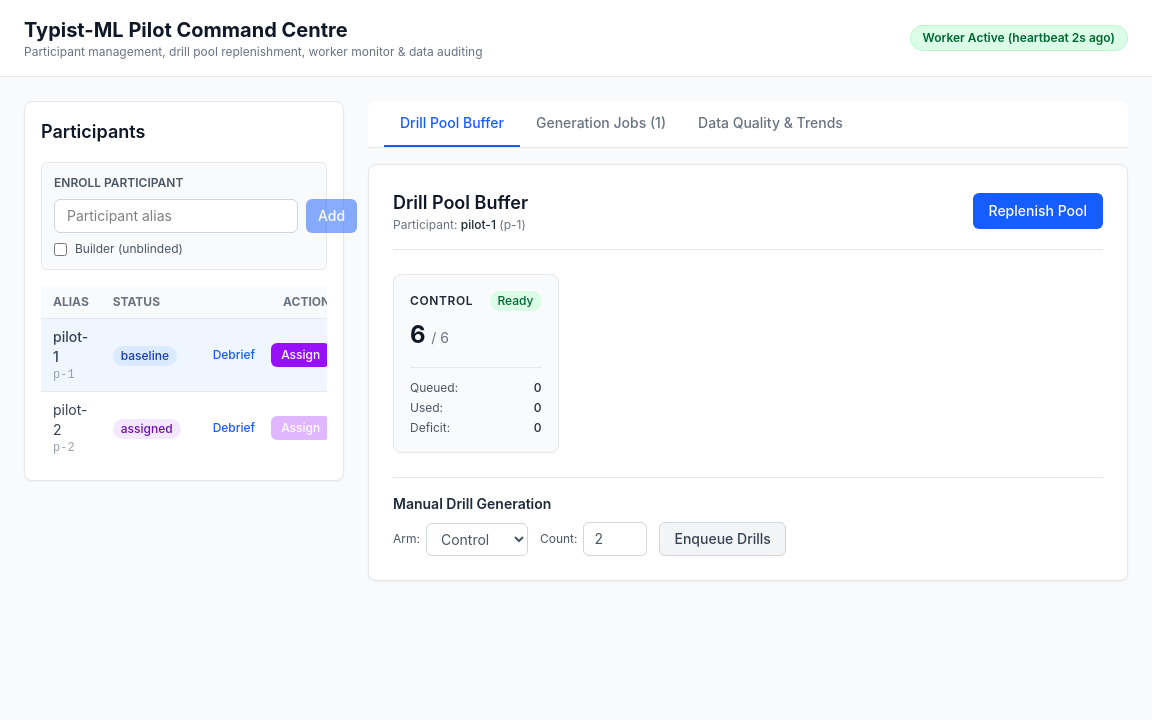
AdminPage › switches tabs between pool, jobs, and data checks
This screenshot has width=1152, height=720.
Check: the element with test id "pool-status-panel" is shown, box 368,164 -> 1128,581
Click jobs tab
Click the button with test id "tab-jobs": (601, 124) 520,101 -> 682,147
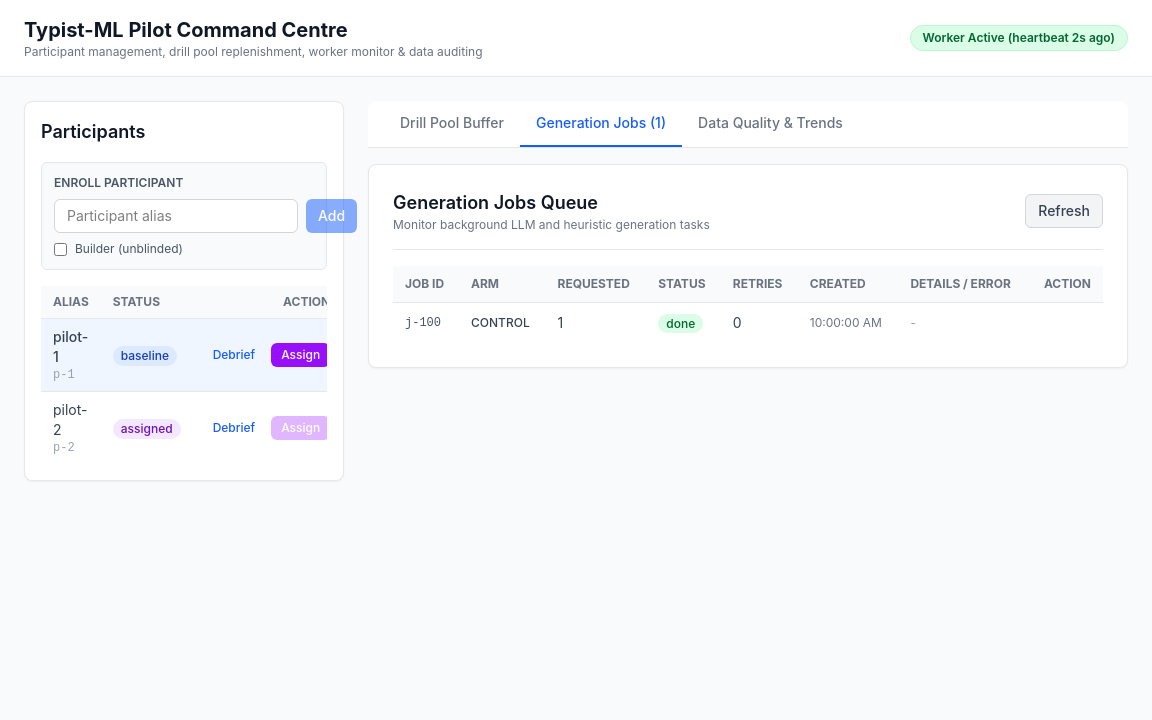
Check: the element with test id "jobs-panel" is shown, box 368,164 -> 1128,368
Check: the text "j-100" is shown, box 393,302 -> 459,343
Click data checks tab
Click the button with test id "tab-checks": (770, 124) 682,101 -> 859,147
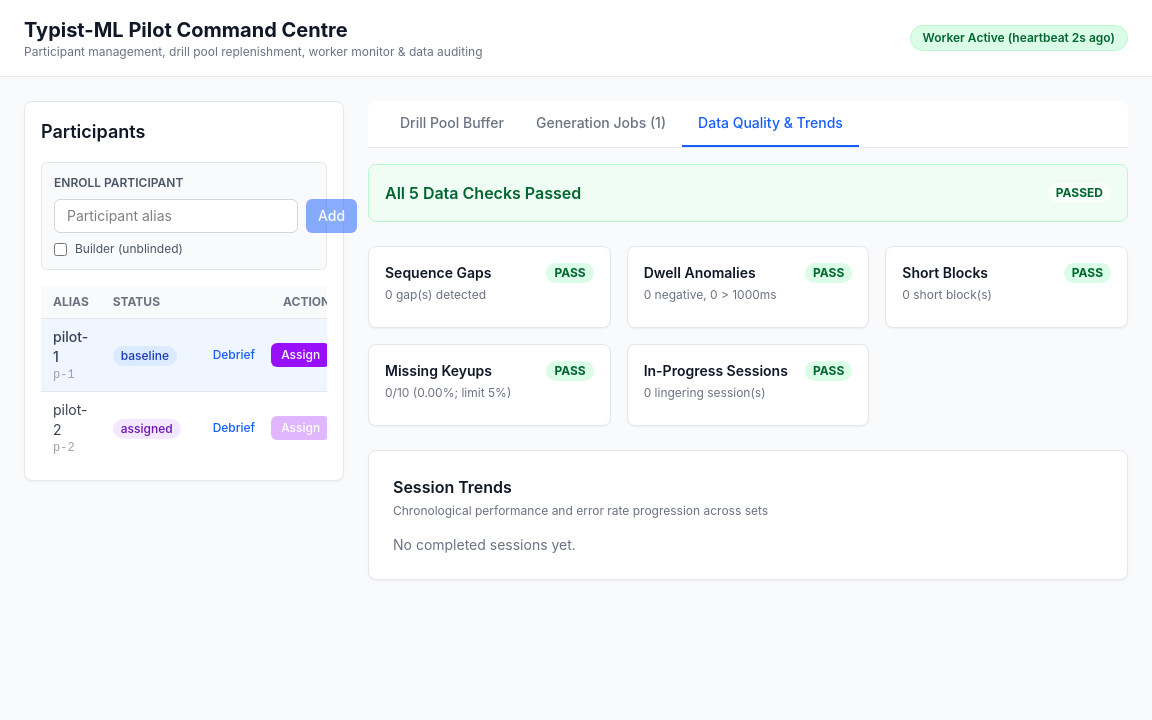
Check: the element with test id "data-checks-panel" is shown, box 368,164 -> 1128,580
Check: the element with test id "checks-summary-banner" shows "All 5 Data Checks Passed", box 385,183 -> 581,203
